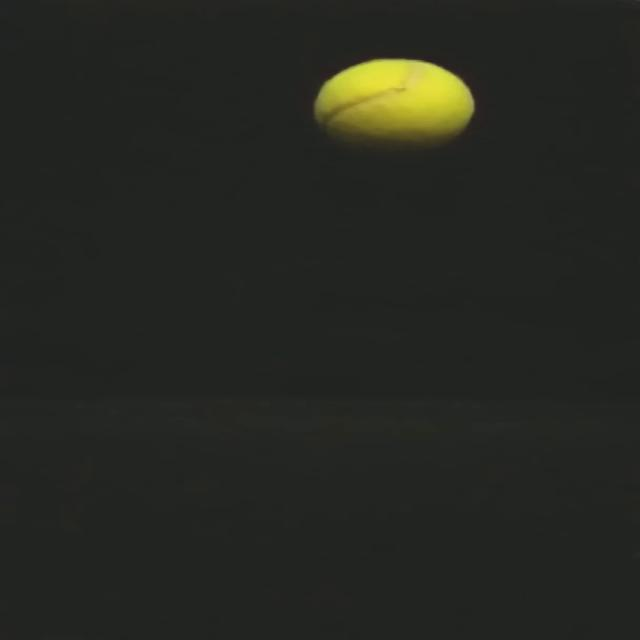tennis_ball: (312, 59, 475, 143)
